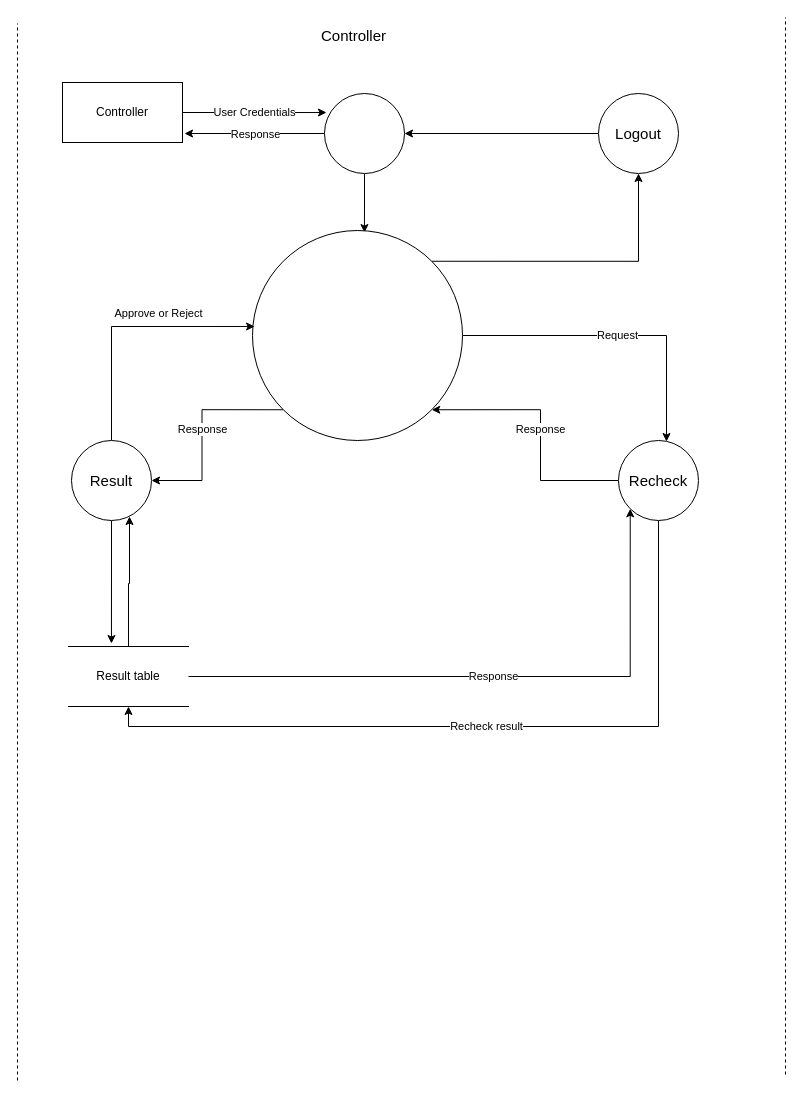
Some shapes in this 804 by 1099 pixel diagram are drawn without their labels. The centre of each missing label's shape, as x and y in pixels:
"Dashboard" belongs at (x=357, y=335).
"Login" belongs at (x=364, y=133).
